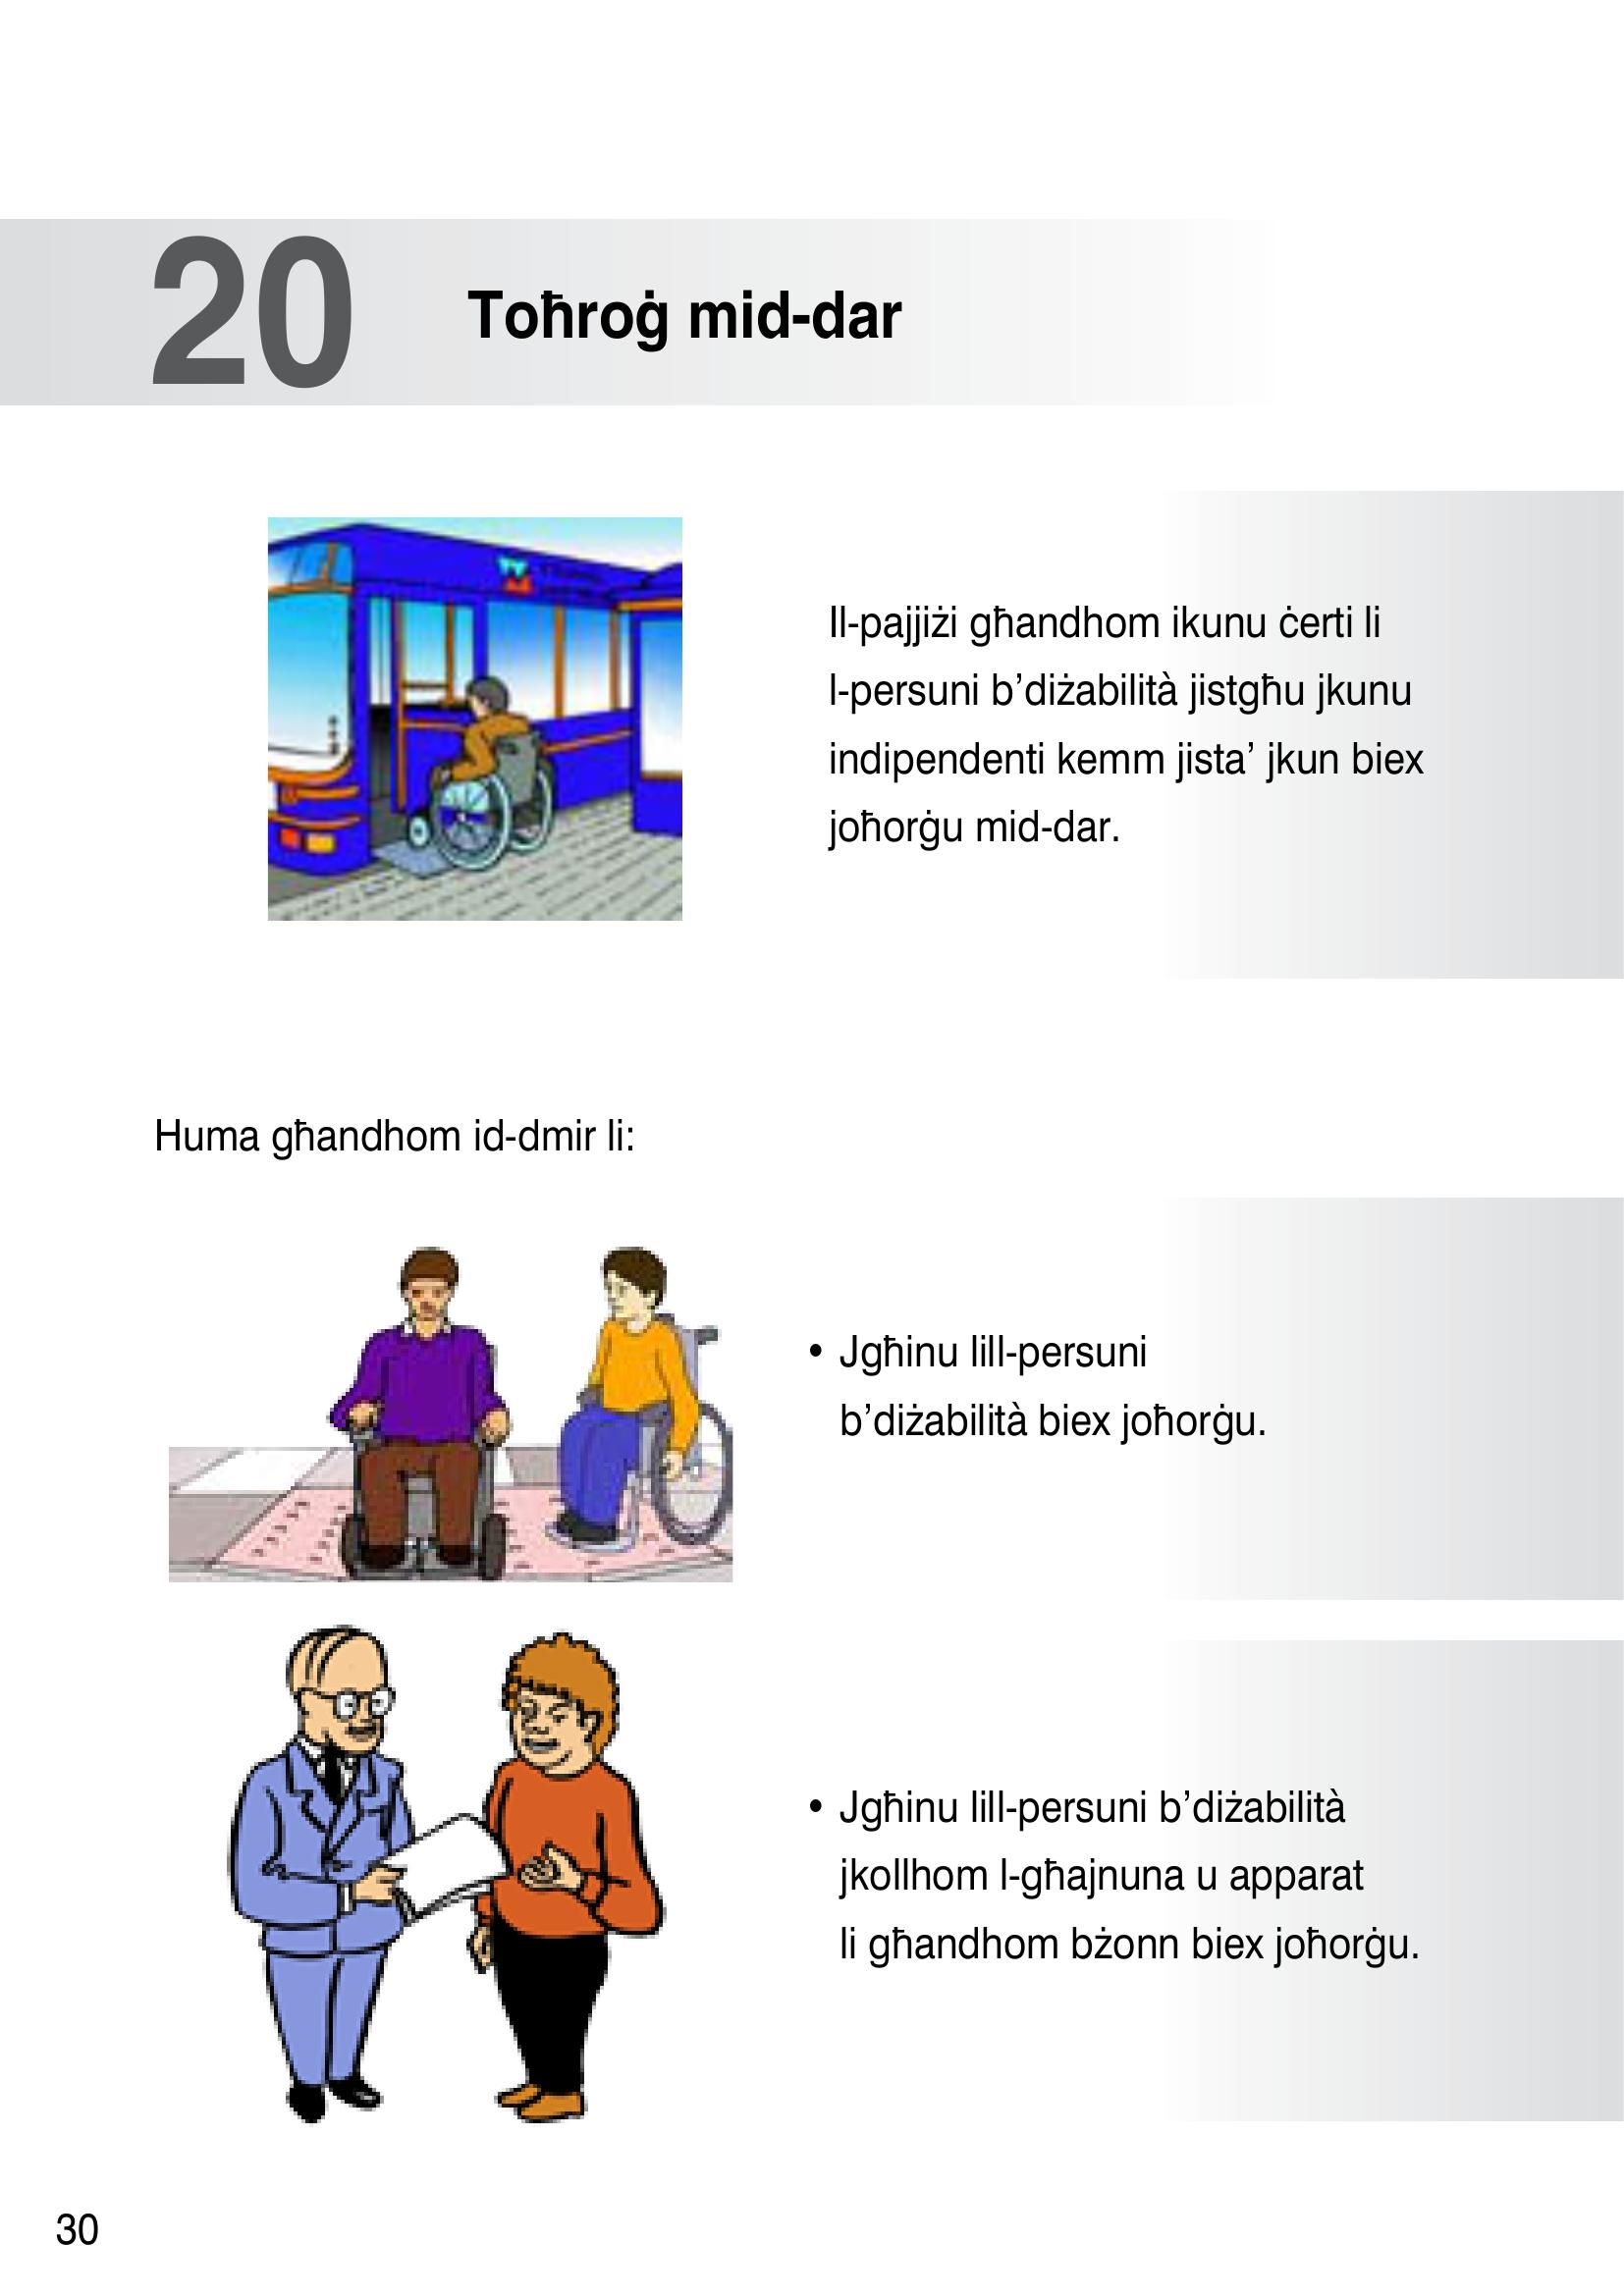text: (777, 1303, 1452, 2064), (793, 560, 1459, 885), (128, 216, 935, 397), (121, 1082, 680, 1198)
